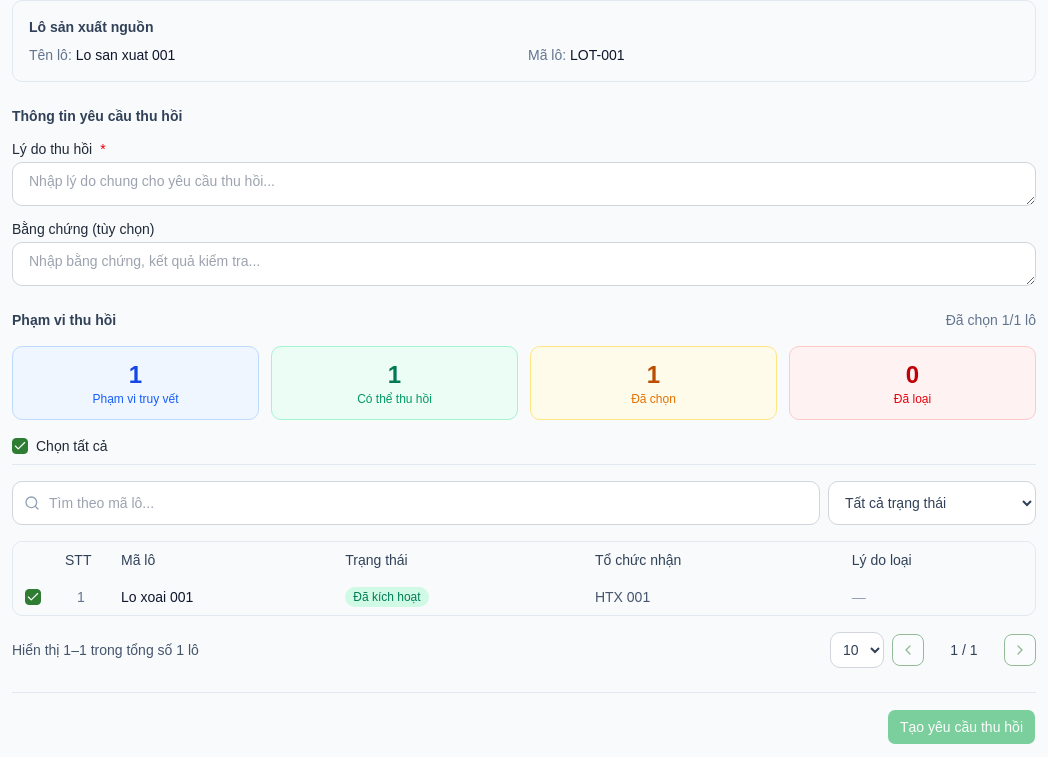
BulkRecallRequestForm - bang Pham vi thu hoi › tim kiem khong co ket qua hien thi empty-state
In the field labelled "Tìm theo mã lô": (416, 503) top-left (12, 481), bottom-right (820, 525), type "khong-ton-tai"
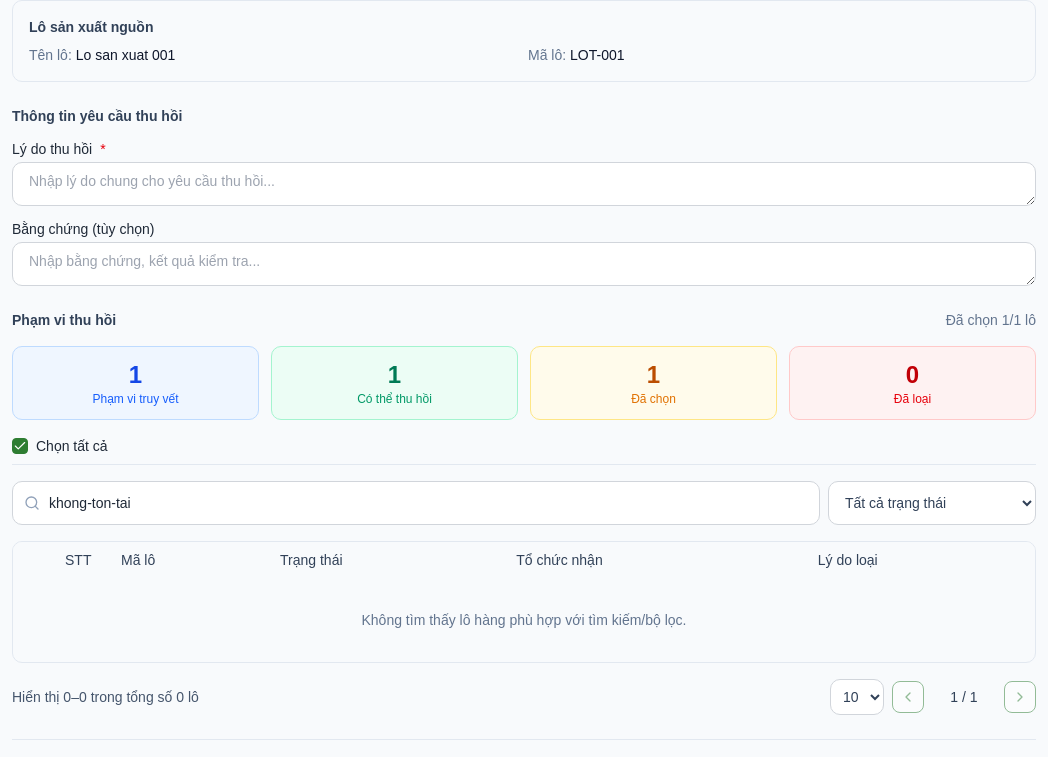
expect the text "Không tìm thấy lô hàng phù hợp với tìm kiếm/bộ lọc." is shown: met, box top-left (13, 578), bottom-right (1035, 662)
expect the text "Hiển thị 0–0 trong tổng số 0 lô" is shown: met, box top-left (12, 687), bottom-right (199, 707)
